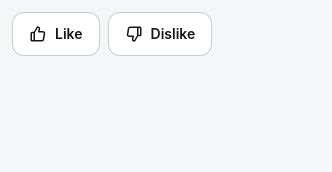
Test: VoteButtons (US-8) › lets a member like, switch and remove, with aria-pressed
Click the button "Like" at (56, 34), box [12,12,100,56]
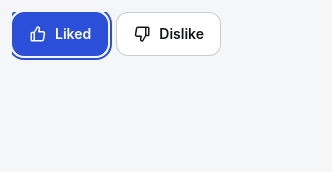
Now the button "Liked" is shown, box [12,12,108,56]
Click the button "Dislike" at (169, 34), box [116,12,221,56]
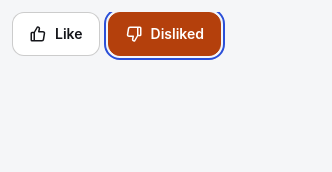
Now the button "Disliked" is pressed
Now the button "Like" is not pressed, box [12,12,100,56]
Click the button "Disliked" at (164, 34), box [108,12,221,56]
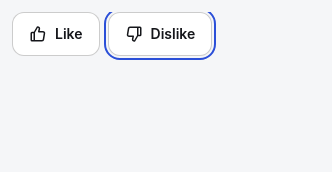
Now the button "Dislike" is not pressed, box [108,12,212,56]
